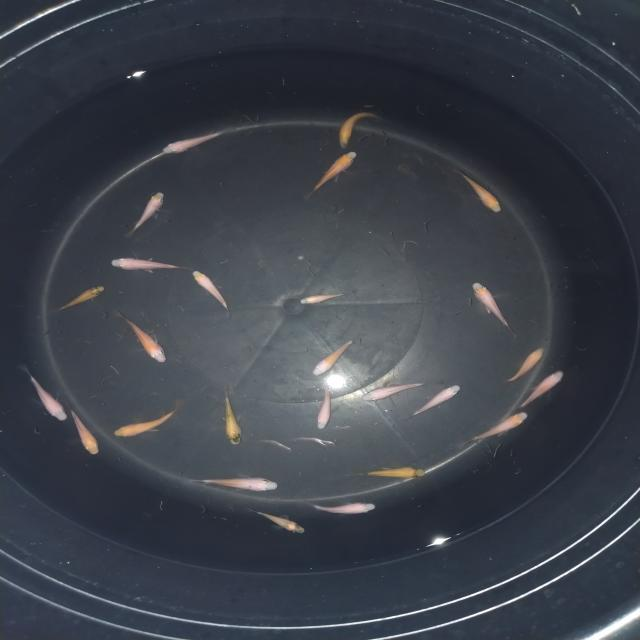nila: (114, 308, 170, 364), (302, 150, 362, 198), (459, 411, 534, 446), (110, 402, 182, 438), (160, 124, 238, 157), (452, 166, 503, 216), (120, 188, 168, 240), (23, 367, 66, 425), (471, 280, 518, 332), (332, 108, 388, 148), (212, 386, 248, 448), (358, 376, 434, 404), (66, 399, 102, 457), (405, 382, 463, 418), (192, 270, 236, 317), (46, 284, 110, 316), (518, 366, 566, 408), (309, 335, 356, 377), (501, 344, 546, 386), (354, 464, 436, 486), (185, 476, 283, 494), (252, 508, 311, 535), (104, 256, 190, 274), (306, 498, 380, 518), (295, 288, 354, 306), (314, 380, 334, 432)
